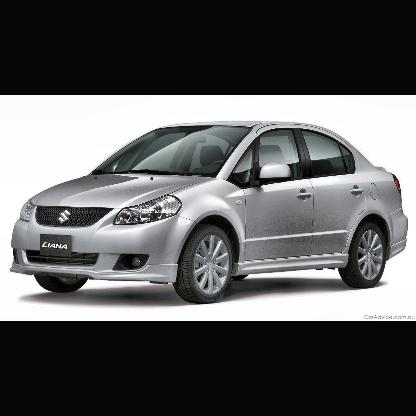Suzuki Aerio Sedan 2007: (10, 120, 410, 304)
